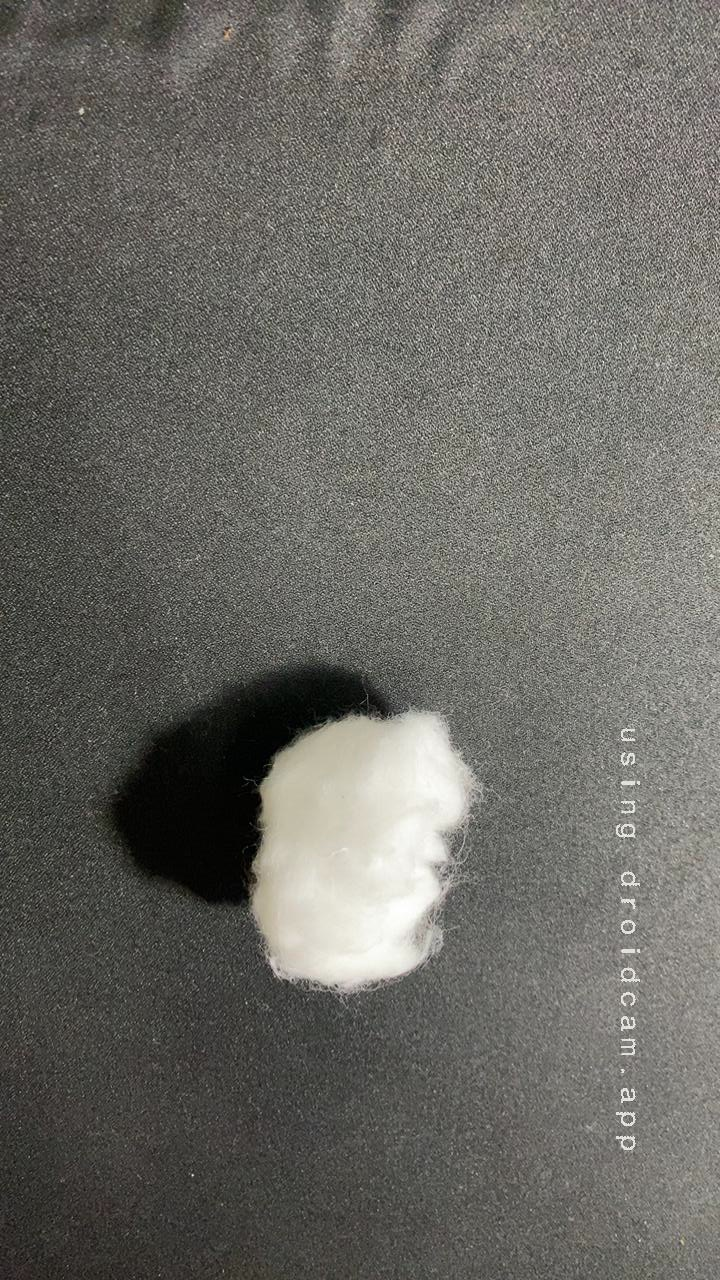cotton: (229, 696, 511, 1010)
